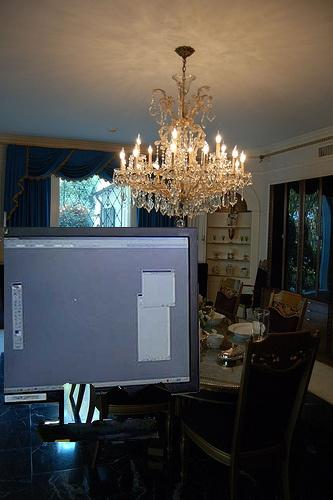tampered: (5, 228, 200, 442)
